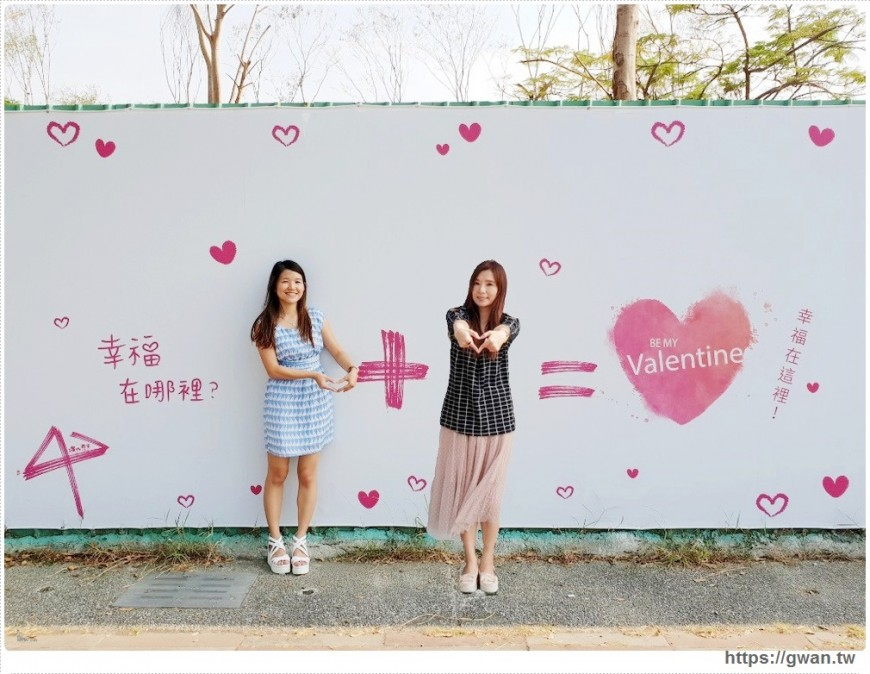people: (252, 254, 344, 572), (437, 256, 519, 591)
